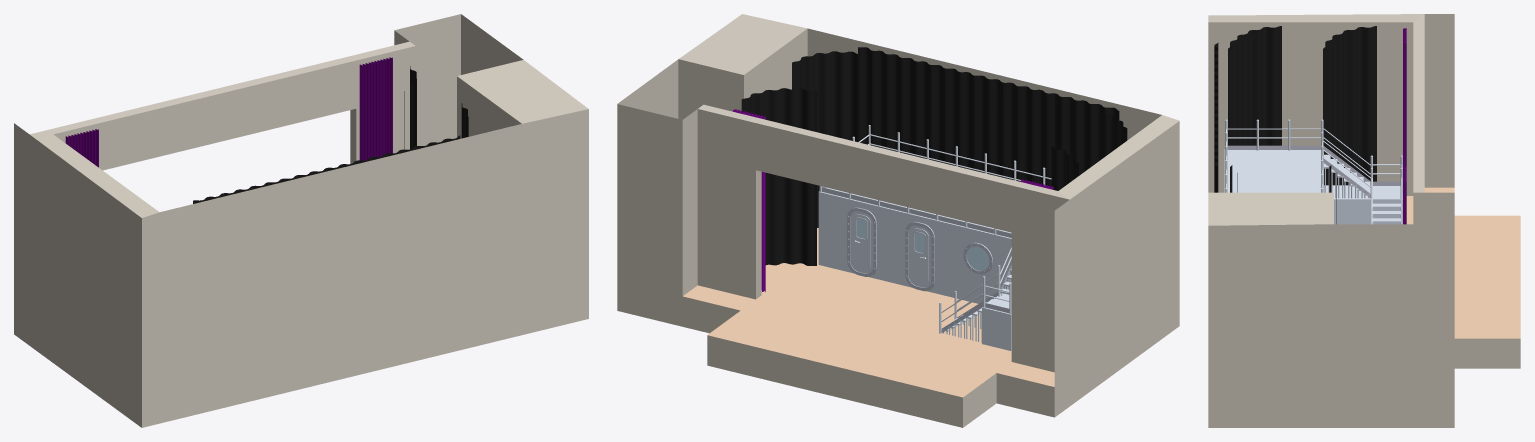
The model's file is Stage.glb.
3 renders of one model, left to right at view 1: azimuth 30°, elevation 25°; view 2: azimuth 150°, elevation 25°; view 3: azimuth 270°, elevation 25°, orthographic. The views are drawn at different scales.
Visible parts, largest first — view 1: Stage, SR_Front, Back, SL_Front, SR_Mid; view 2: Stage, Back, Base, SR_Mid, SR_Back, Rails_Top, Door_SL, Door_SR, SL_Back, SL_Mid, Porthole, Rails_Lower (+4 smaller); view 3: Stage, SL_Mid, Base, SL_Back, Rails_Top, Stairs_Upper, Rails_Upper, Back, SL_Front, Rails_Landing, Stairs_lower.
Part boxes in pixels (x1,y1,x2,y2): Stage: [14, 14, 588, 427]; SR_Front: [359, 57, 392, 160]; Back: [193, 135, 460, 203]; SL_Front: [65, 129, 98, 167]; SR_Mid: [404, 66, 416, 149]; Stage: [617, 14, 1179, 427]; Back: [858, 47, 1119, 186]; Base: [818, 187, 1011, 350]; SR_Mid: [741, 88, 816, 265]; SR_Back: [792, 51, 867, 227]; Rails_Top: [819, 125, 1051, 237]; Door_SL: [908, 225, 931, 287]; Door_SR: [850, 211, 873, 273]; SL_Back: [1100, 111, 1127, 160]; SL_Mid: [1051, 146, 1078, 190]; Porthole: [963, 242, 992, 274]; Rails_Lower: [939, 274, 997, 333]; Stage: [1208, 14, 1520, 427]; SL_Mid: [1323, 26, 1376, 185]; Base: [1224, 149, 1402, 224]; SL_Back: [1228, 26, 1281, 145]; Rails_Top: [1225, 119, 1323, 192]; Stairs_Upper: [1324, 154, 1370, 198]; Rails_Upper: [1323, 128, 1370, 197]; Back: [1214, 42, 1218, 192]; SL_Front: [1403, 28, 1406, 166]; Rails_Landing: [1370, 155, 1402, 198]; Stairs_lower: [1372, 203, 1400, 224].
Bounding box in the file's own units: 15.05 × 6.8 × 9.45.
